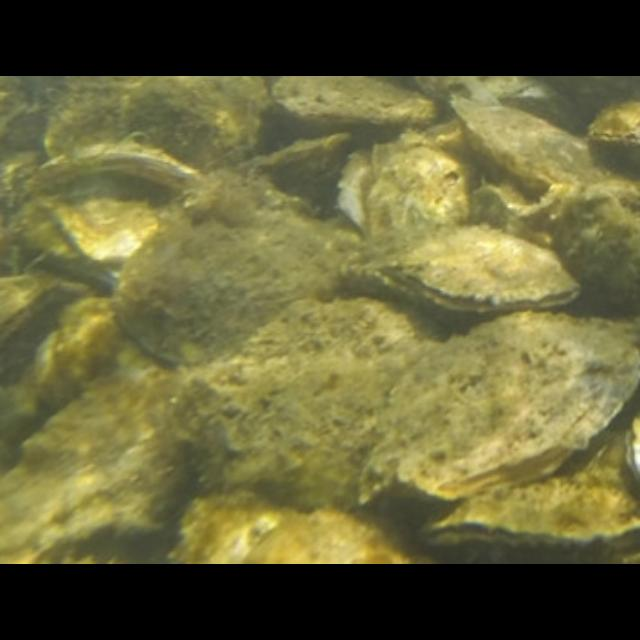Oyster-Closed: (416, 425, 640, 549), (353, 223, 579, 312), (0, 274, 58, 343), (589, 98, 640, 151), (625, 413, 640, 485)
Oyster-Indeterminate: (175, 296, 457, 504), (361, 313, 640, 501), (0, 346, 214, 559), (113, 189, 372, 362), (471, 185, 640, 325), (44, 76, 271, 166), (170, 494, 438, 565), (453, 100, 640, 195), (34, 296, 138, 410), (365, 132, 473, 237), (221, 131, 349, 210), (41, 177, 161, 257), (277, 76, 438, 124), (36, 143, 201, 188)
